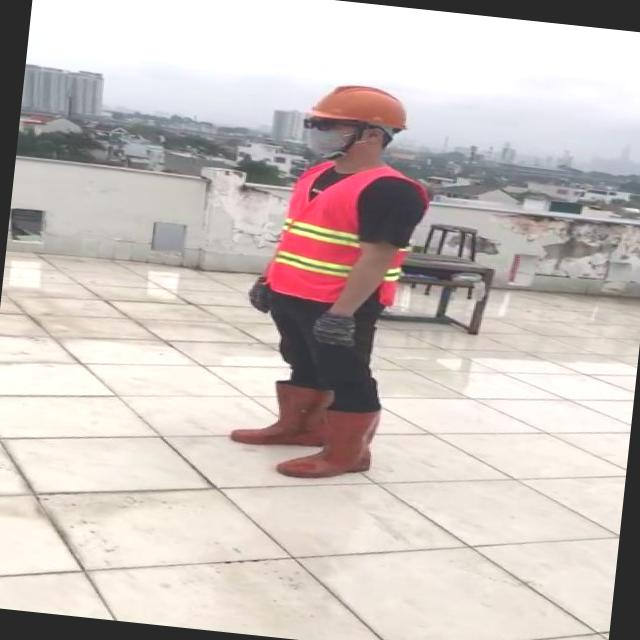boots: (274, 398, 386, 486), (226, 372, 330, 452)
gloves: (272, 51, 398, 188), (290, 302, 372, 368), (217, 271, 286, 335)
helmet: (306, 78, 416, 132)
vest: (262, 152, 433, 312)
